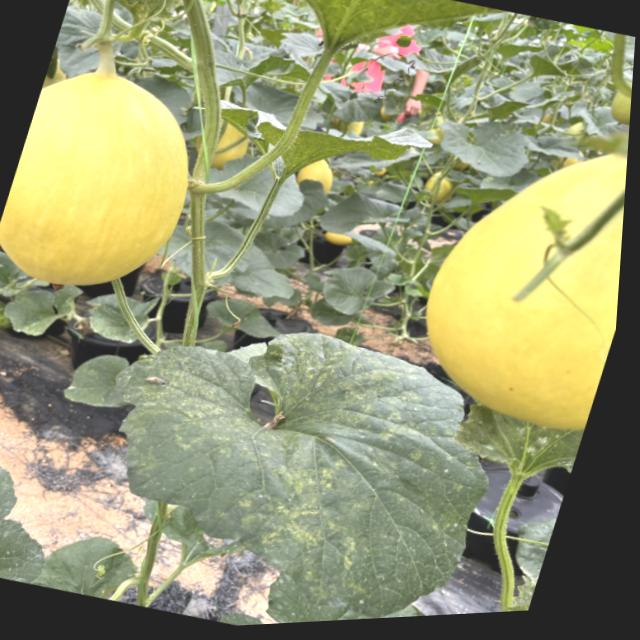SLCV: (444, 387, 590, 483), (90, 0, 188, 36)
downy mildew: (73, 278, 579, 634), (164, 0, 592, 127), (0, 445, 74, 589)
powdery mildew: (178, 70, 414, 210), (447, 389, 588, 483)
